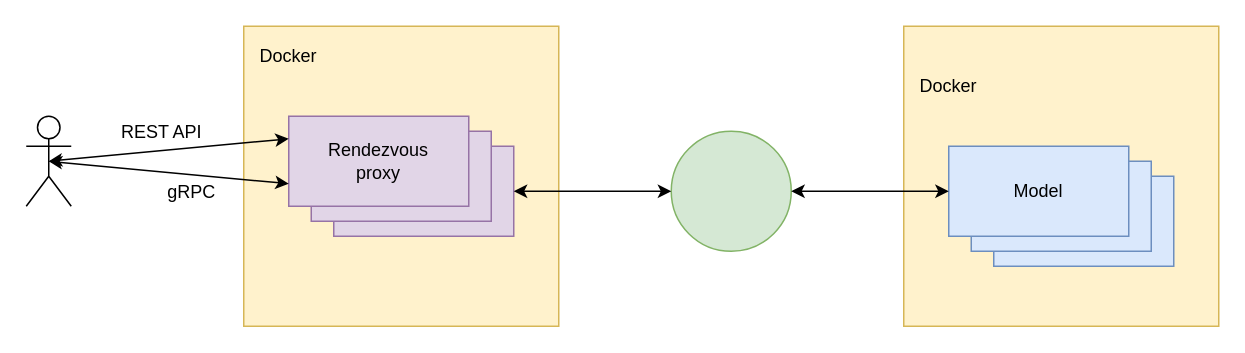
The diagram is 1245 pixels wide and 353 high, and some of its shapes have lost their labels. The shapes that lost their labels are listed below. From the top down, each one's centre as x and y in pixels, then its label:
the point at 48,160: User
the point at 730,190: MapR Streams
